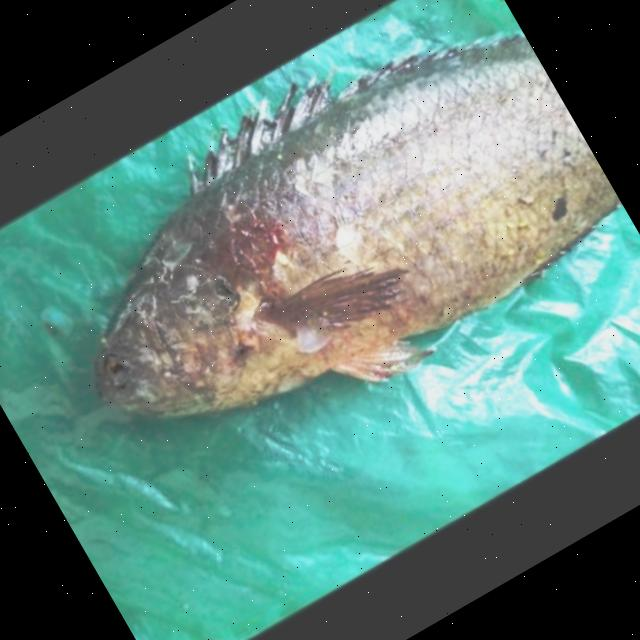Columnaris Disease: (97, 37, 620, 416)
